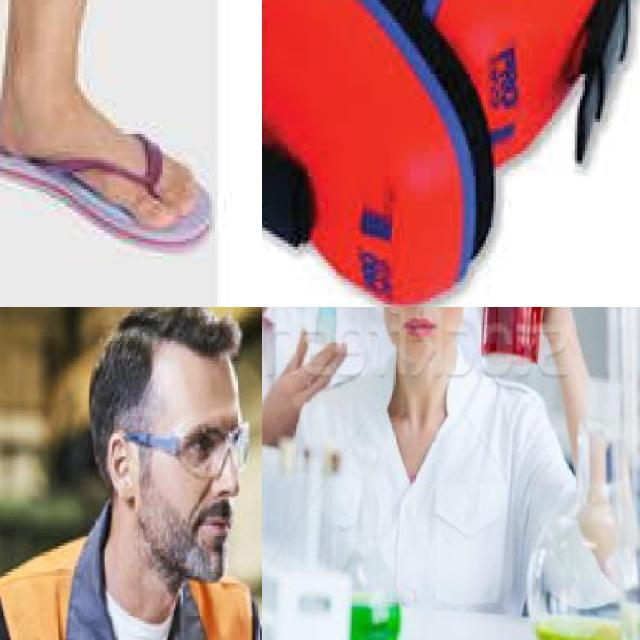Ear-protection: (262, 0, 483, 301), (399, 0, 610, 166)
No_Ear-Protection: (100, 431, 137, 498)
Sandals: (0, 112, 223, 307)
face_nomask: (168, 421, 258, 546), (386, 307, 465, 338)
glasses: (126, 416, 254, 471)
hand_noglove: (262, 323, 350, 437)
head_nohelmet: (97, 307, 245, 394)
person: (274, 307, 615, 640), (0, 312, 262, 640), (262, 307, 361, 619)
vest: (0, 533, 240, 640)
